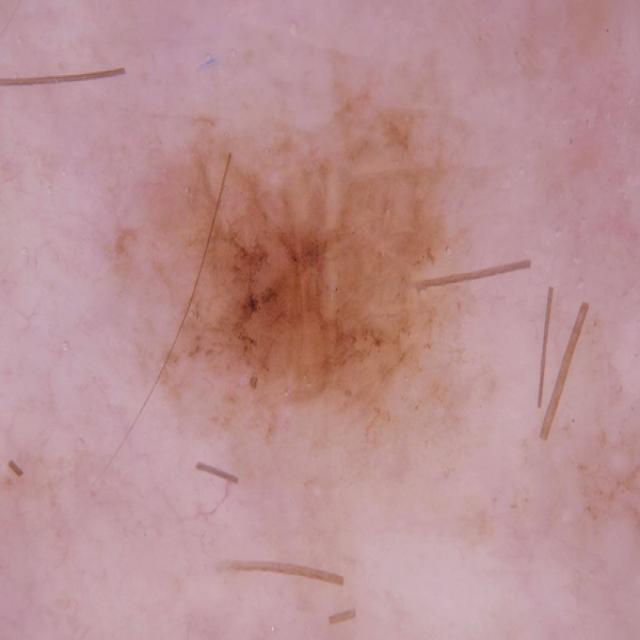Skin-Cancer Pigmented benign keratosis: (58, 27, 596, 560)
